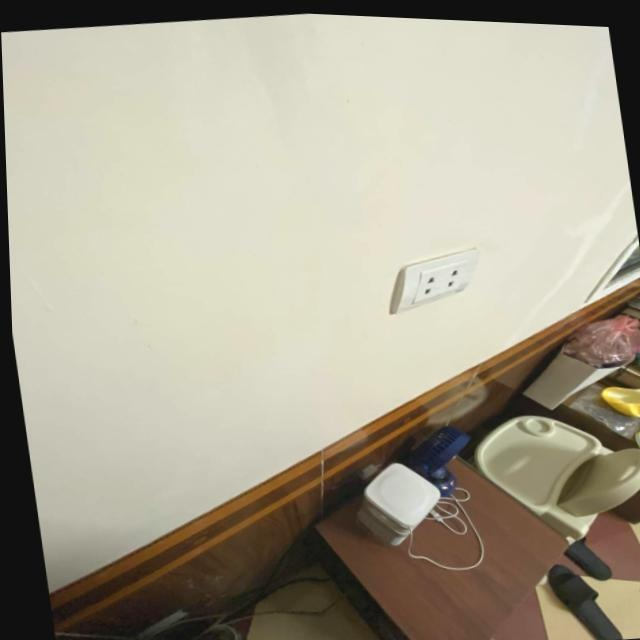outlet: (380, 241, 488, 319)
